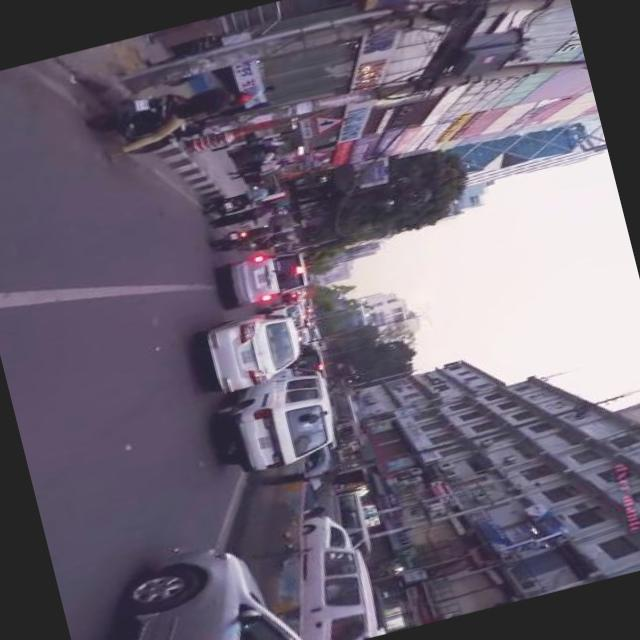bus: (328, 388, 364, 442)
car: (86, 526, 314, 640), (203, 302, 309, 392), (285, 444, 348, 514), (302, 508, 354, 556), (266, 298, 308, 332)
motorcycle: (88, 82, 214, 163), (206, 192, 254, 217), (215, 225, 258, 252)
truck: (218, 356, 346, 474), (280, 533, 384, 640), (225, 242, 312, 306), (318, 488, 376, 562)
